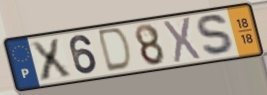6: (68, 34, 99, 76)
8: (134, 23, 166, 67)
D: (97, 26, 133, 74)
S: (195, 13, 238, 58)
X: (28, 37, 74, 84), (161, 15, 203, 65)
